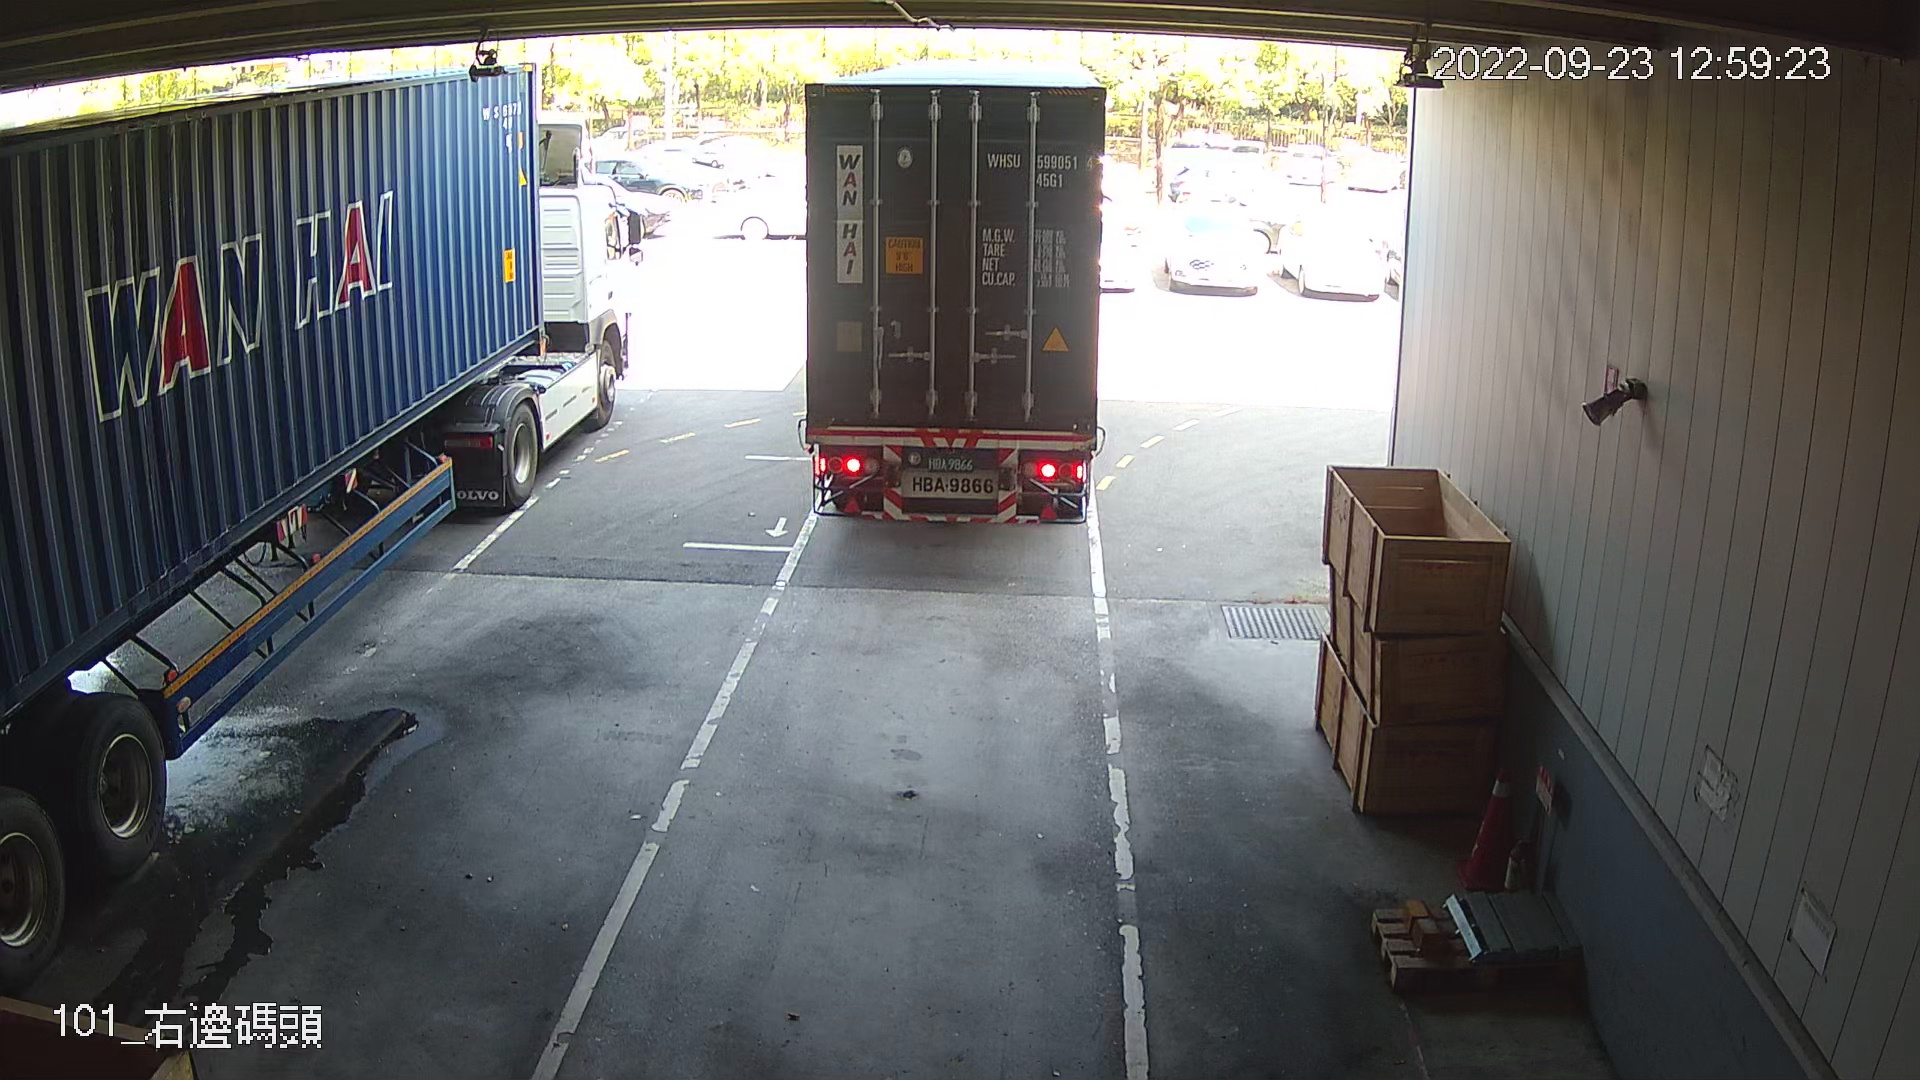container: (981, 146, 1097, 193)
